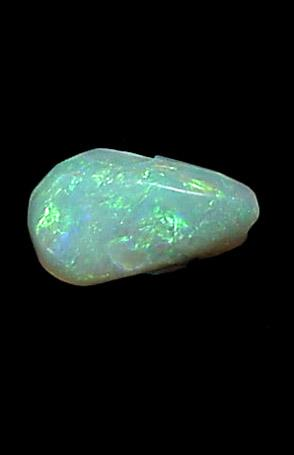opal: (28, 149, 260, 286)
